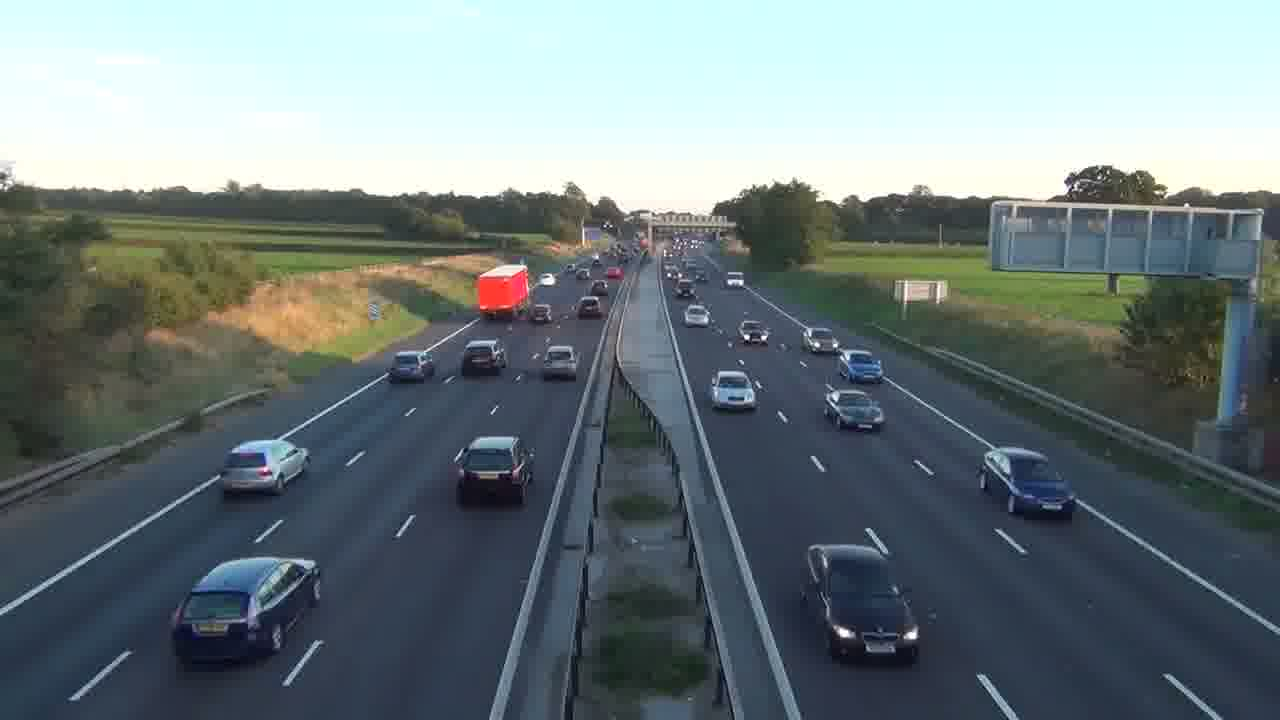car: (170, 556, 323, 668), (977, 445, 1077, 519), (452, 434, 535, 505), (220, 438, 309, 496), (823, 388, 886, 432), (709, 369, 758, 413), (834, 348, 884, 385), (460, 339, 506, 376), (388, 350, 436, 383), (541, 344, 578, 381), (576, 295, 604, 319), (684, 304, 711, 327)
